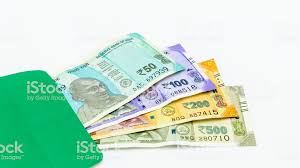fifty: (61, 55, 162, 96)
